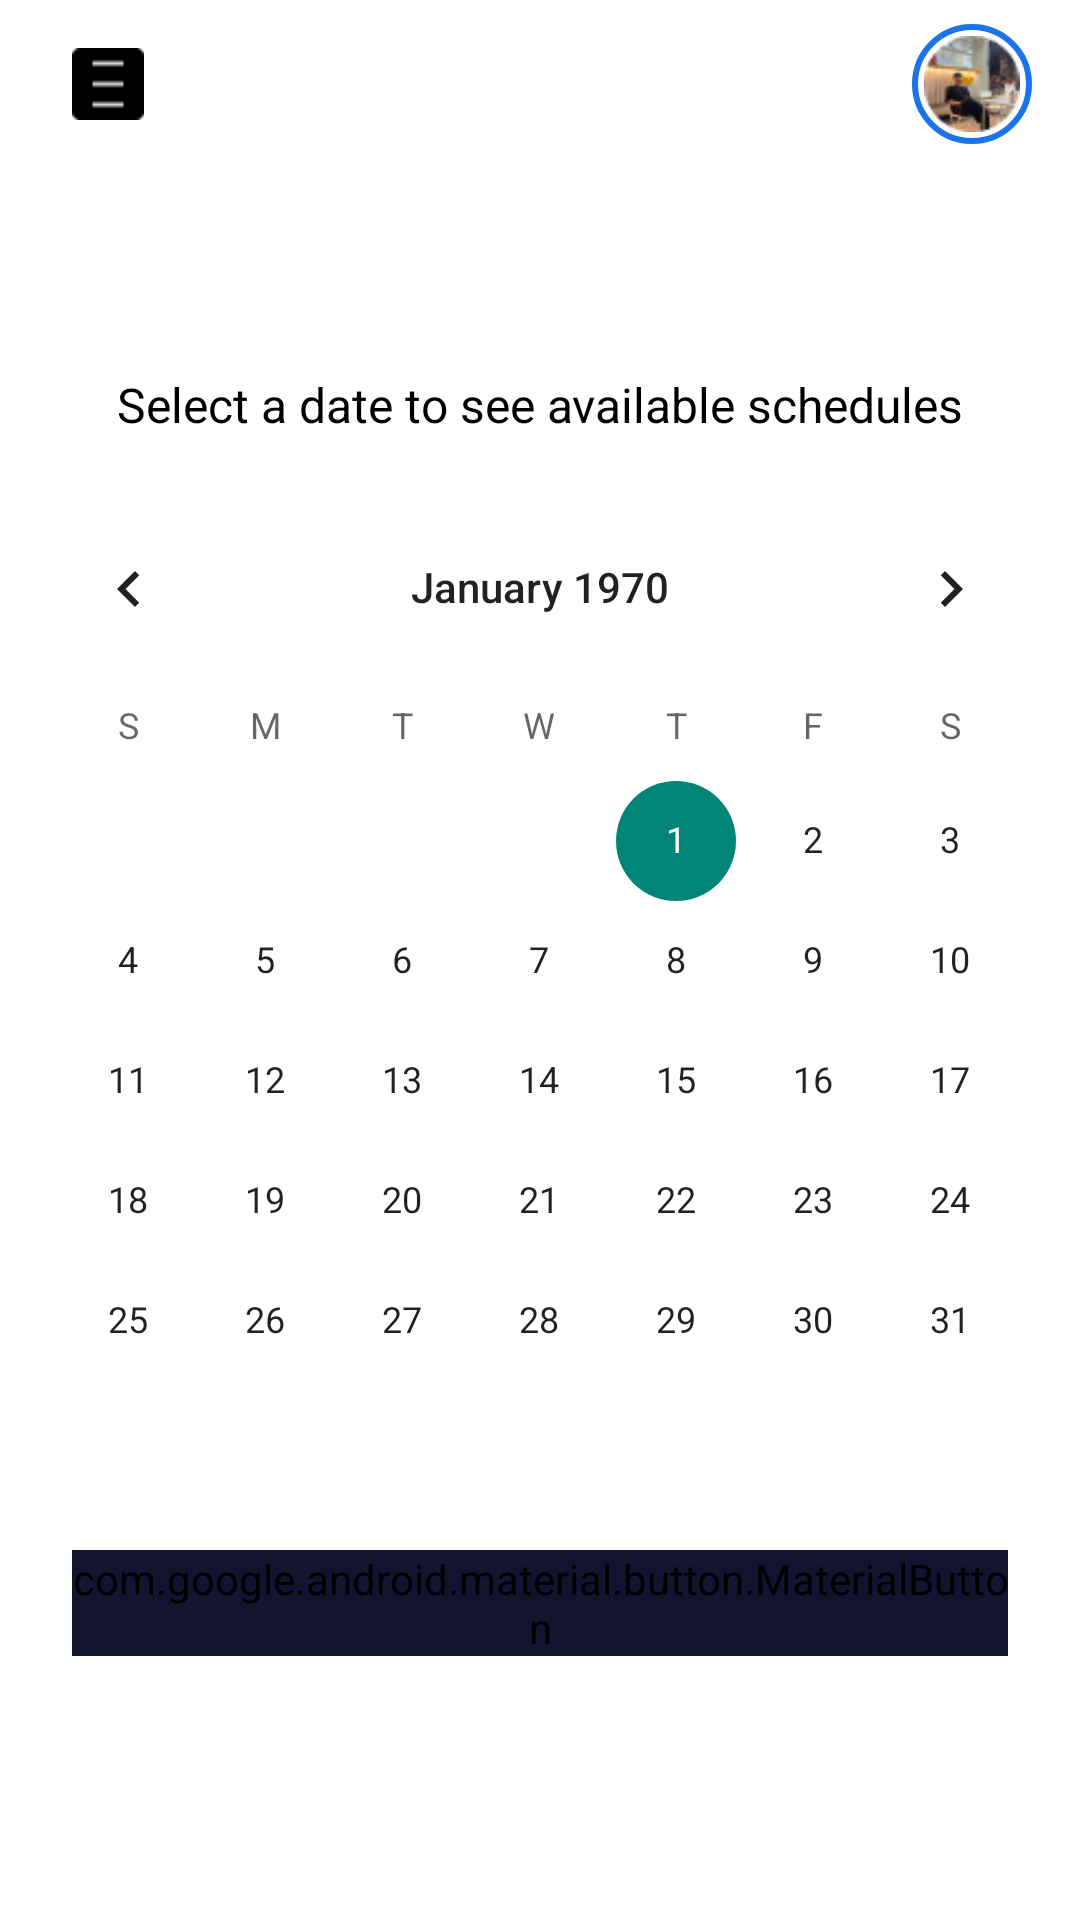

Named icons in this screenshot (1080x1920) and their bounding boxes, (x1, y1, x2, y2):
Menu Icon: (72, 48, 144, 120)
Profile Picture: (912, 24, 1032, 144)
